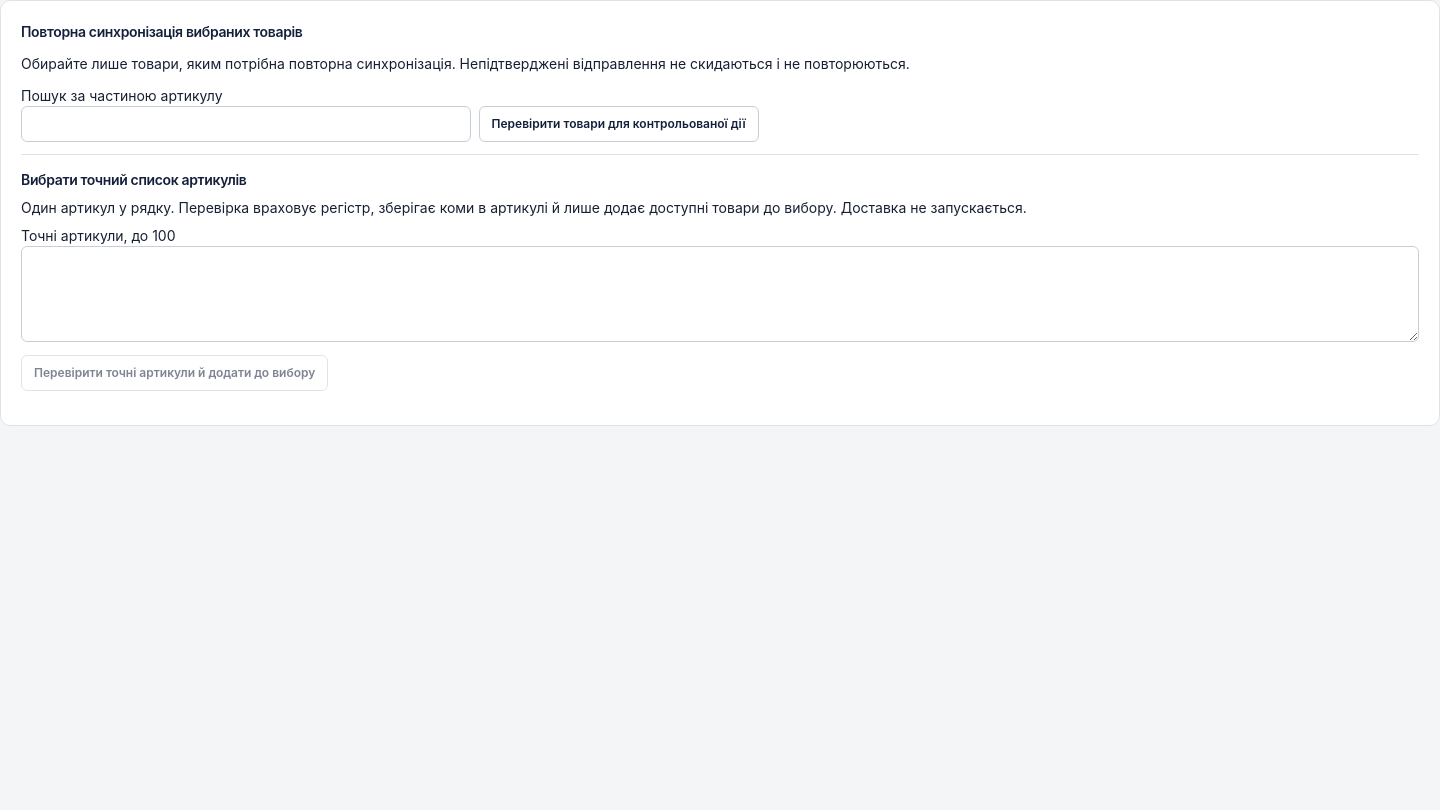
Test: malformed exact results keep the previous selection and cannot authorize a preview
Type "SV1" into the text box labelled "Точні артикули, до 100" at (720, 294), box 21,246 -> 1419,342
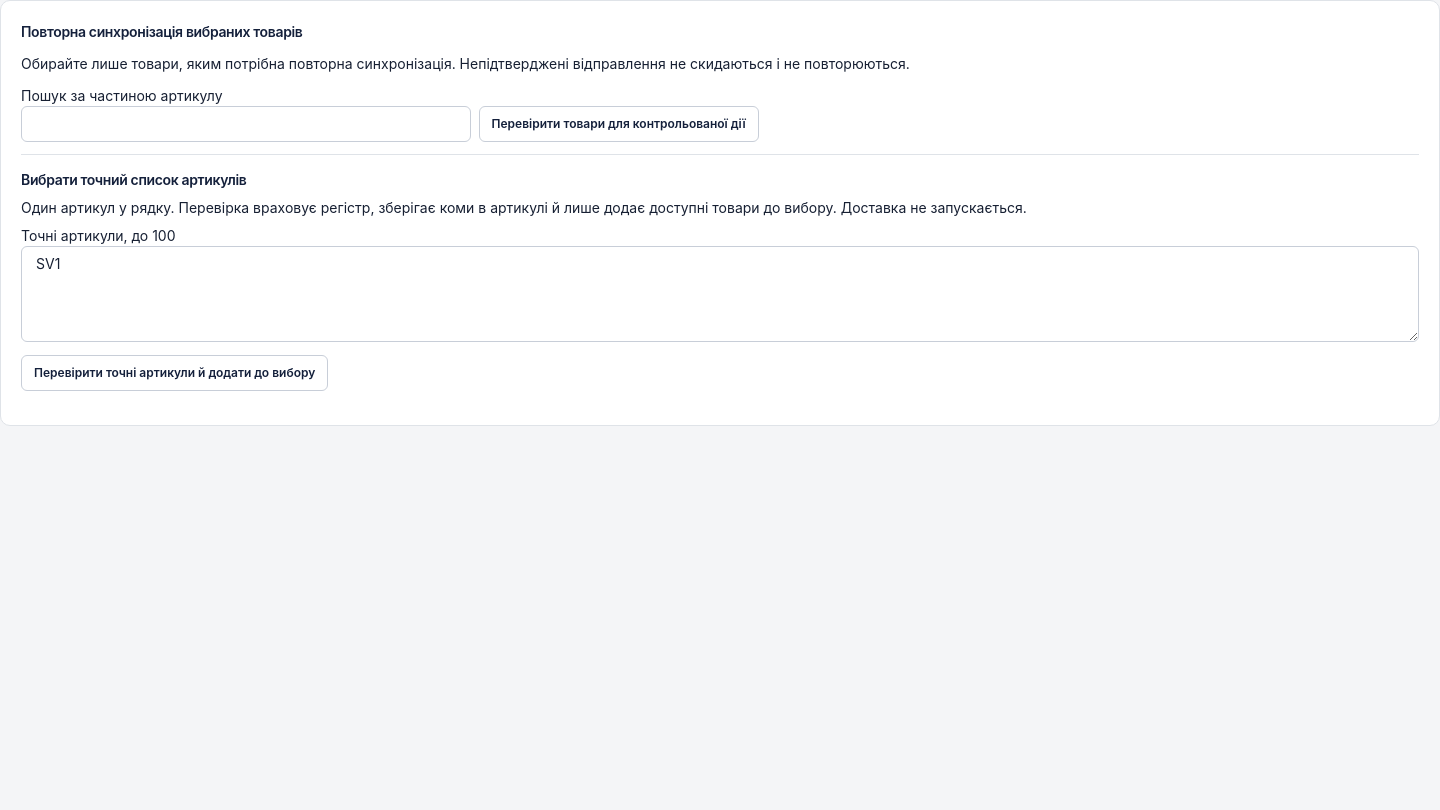
Click the button "Перевірити точні артикули й додати до вибору" at (175, 373), box 21,355 -> 328,391
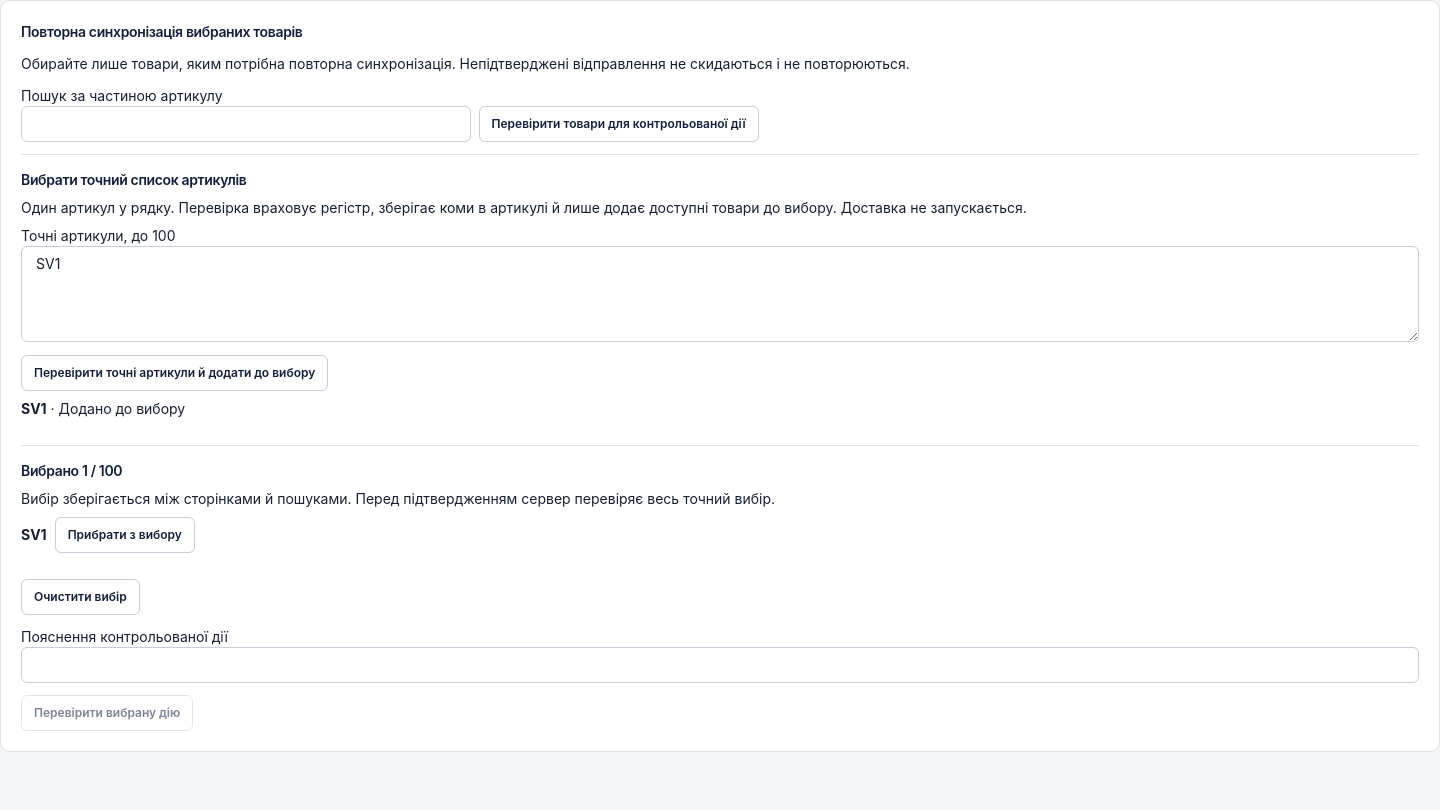
Check: the heading "Вибрано 1 / 100" is shown, box 21,462 -> 122,479
Replace the text in the text box labelled "Точні артикули, до 100" with "SV2" at (720, 294), box 21,246 -> 1419,342
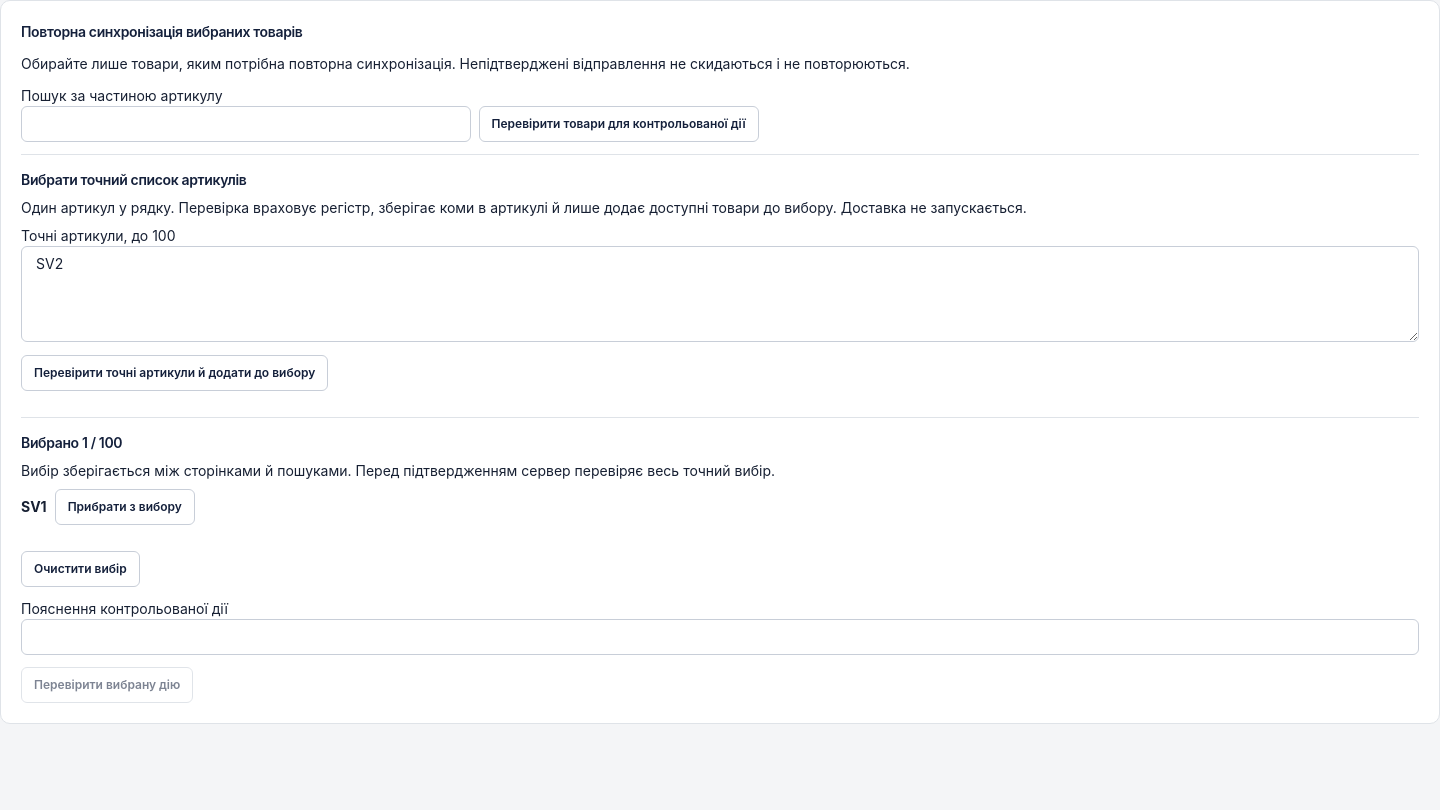
Click the button "Перевірити точні артикули й додати до вибору" at (175, 373), box 21,355 -> 328,391
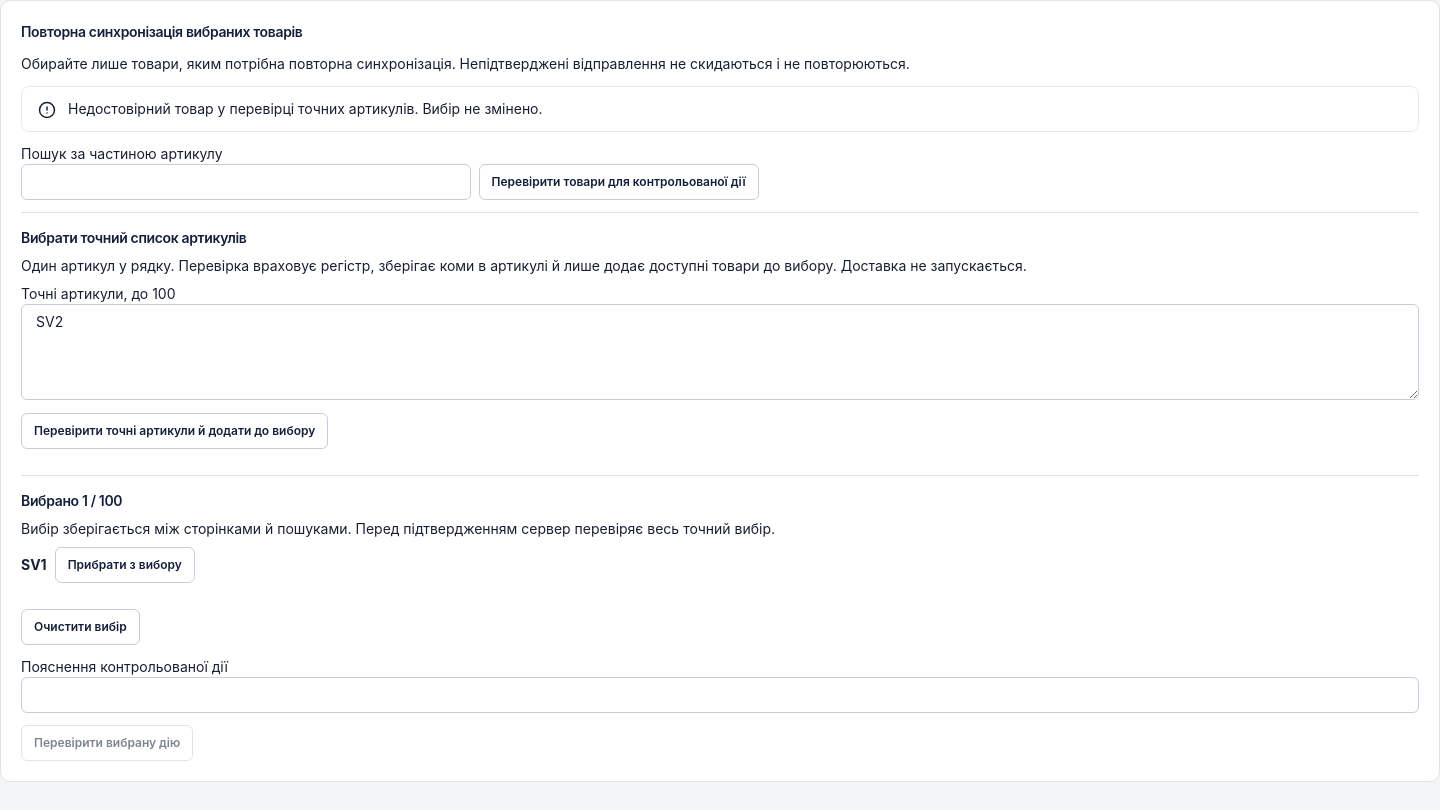
Check: the text "SV1" is shown, box 21,555 -> 47,575
Check: the text "Недостовірний товар" is shown, box 68,100 -> 543,117
